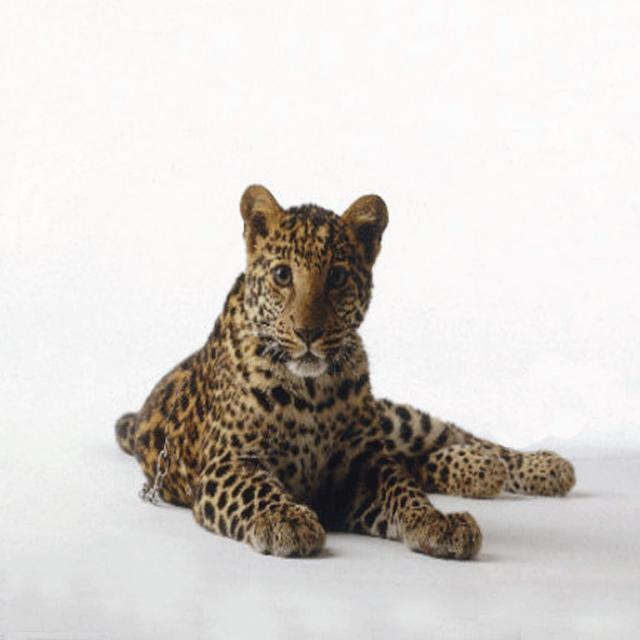Leopard: (114, 181, 576, 560)
